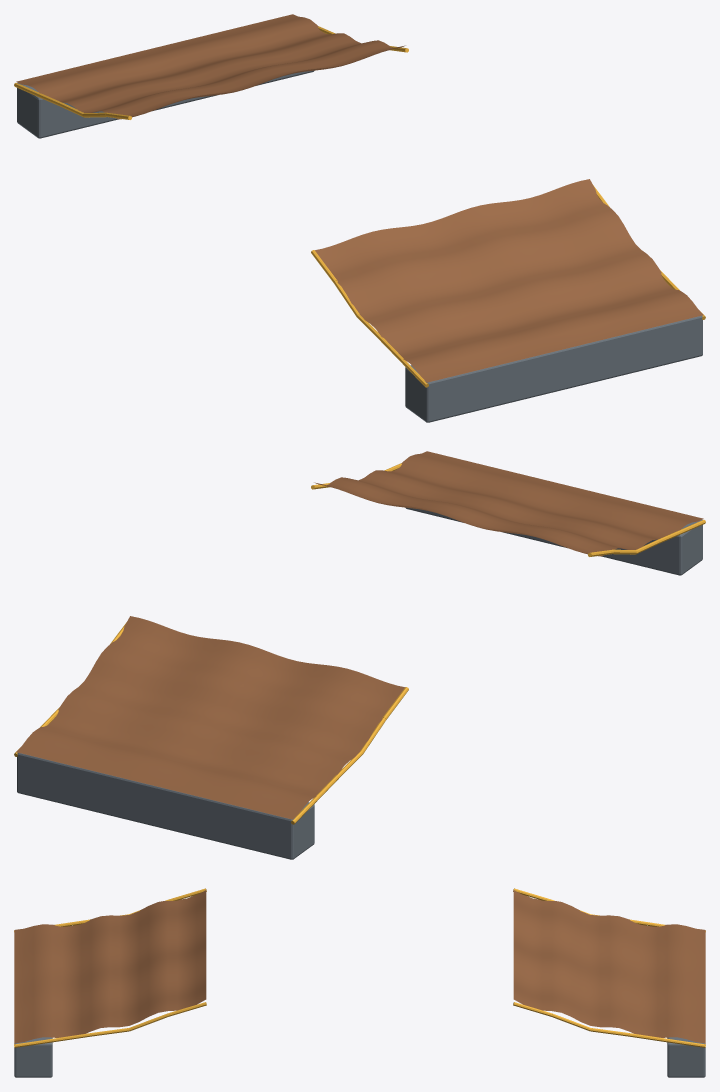
The model's file is lane_missing.glb.
The picture shows the model from 3 angles, top to bottom: view 1: azimuth 30°, elevation 25°; view 2: azimuth 150°, elevation 25°; view 3: azimuth 270°, elevation 25°; orthographic projection. The views are drawn at different scales.
Parts seen in each view (by area): view 1: Ride_Ramp.001, Ramp foundation.003, Ramp foundation.002; view 2: Ride_Ramp.001, Ramp foundation.002, Ramp foundation.003; view 3: Ride_Ramp.001, Ramp foundation.002, Ramp foundation.003.
Part boxes in pixels (bbox=[...]): Ride_Ramp.001: bbox=[16, 14, 703, 382]; Ramp foundation.003: bbox=[405, 315, 702, 422]; Ramp foundation.002: bbox=[17, 70, 314, 138]; Ride_Ramp.001: bbox=[16, 451, 703, 819]; Ramp foundation.002: bbox=[17, 752, 314, 859]; Ramp foundation.003: bbox=[405, 507, 702, 575]; Ride_Ramp.001: bbox=[14, 889, 705, 1043]; Ramp foundation.002: bbox=[667, 1037, 705, 1077]; Ramp foundation.003: bbox=[14, 1037, 52, 1077].
Size of the model in its own units: 14.2 by 4.55 by 36.03.
